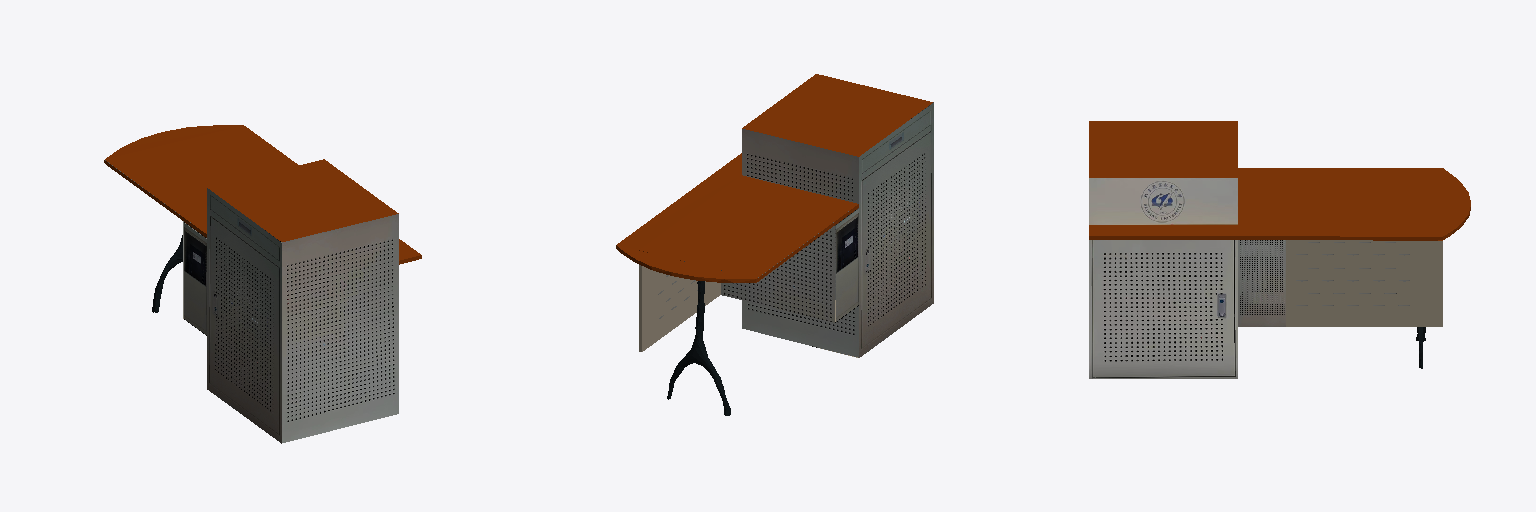
3 views of the same model, side by side, from view 1: azimuth 30°, elevation 25°; view 2: azimuth 150°, elevation 25°; view 3: azimuth 270°, elevation 25° (orthographic).
Parts seen in each view (by area): view 1: desk_meshlab.001; view 2: desk_meshlab.001; view 3: desk_meshlab.001.
Part boxes in pixels (bbox=[...]): desk_meshlab.001: bbox=[104, 125, 421, 443]; desk_meshlab.001: bbox=[616, 74, 933, 415]; desk_meshlab.001: bbox=[1089, 121, 1470, 378].
Bounding box in the file's own units: 9.12 × 12.5 × 21.54.
Materials: 4 (1 with a texture image).